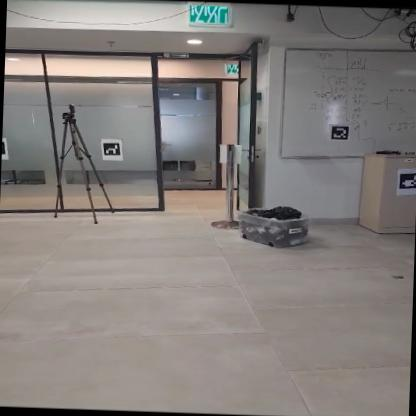open: (150, 72, 250, 219)
